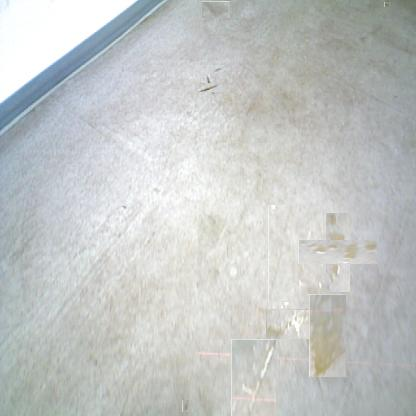liquid: (231, 339, 276, 416), (309, 294, 346, 377), (312, 227, 364, 278), (266, 309, 310, 339)
mark: (268, 206, 291, 304), (359, 24, 385, 44), (202, 1, 230, 18), (202, 79, 219, 95), (214, 63, 223, 73), (182, 400, 189, 412), (120, 203, 128, 211), (391, 94, 399, 102), (385, 1, 391, 8)
